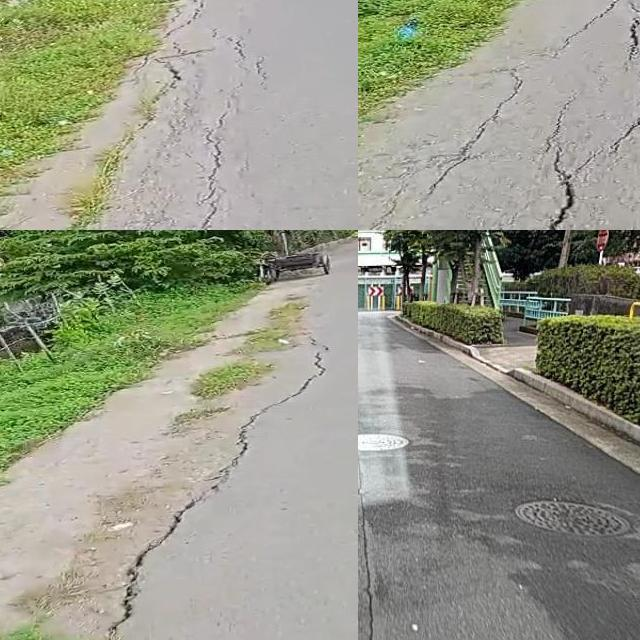Memanjang: (81, 324, 334, 640), (535, 0, 640, 230), (196, 78, 246, 230), (358, 460, 385, 640)
